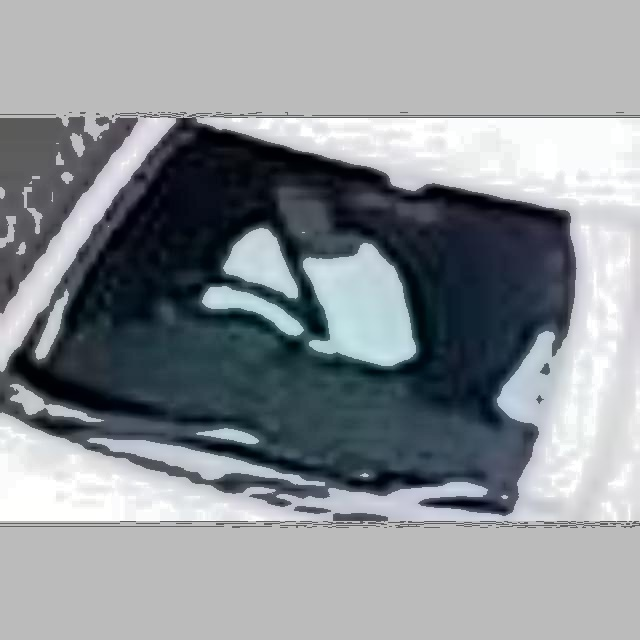pakai: (153, 153, 473, 417)
